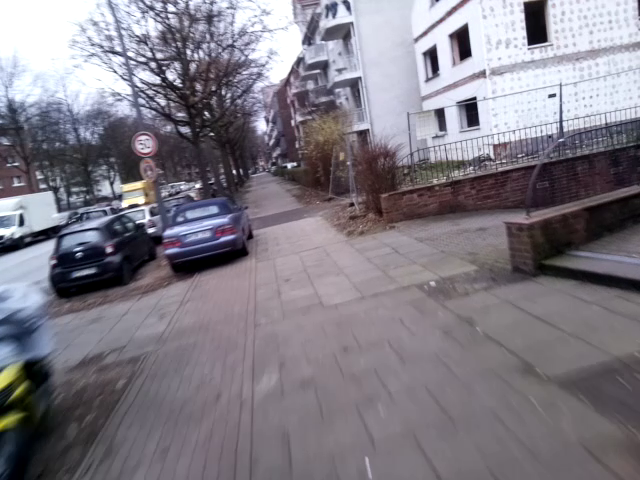car: (164, 195, 254, 265)
